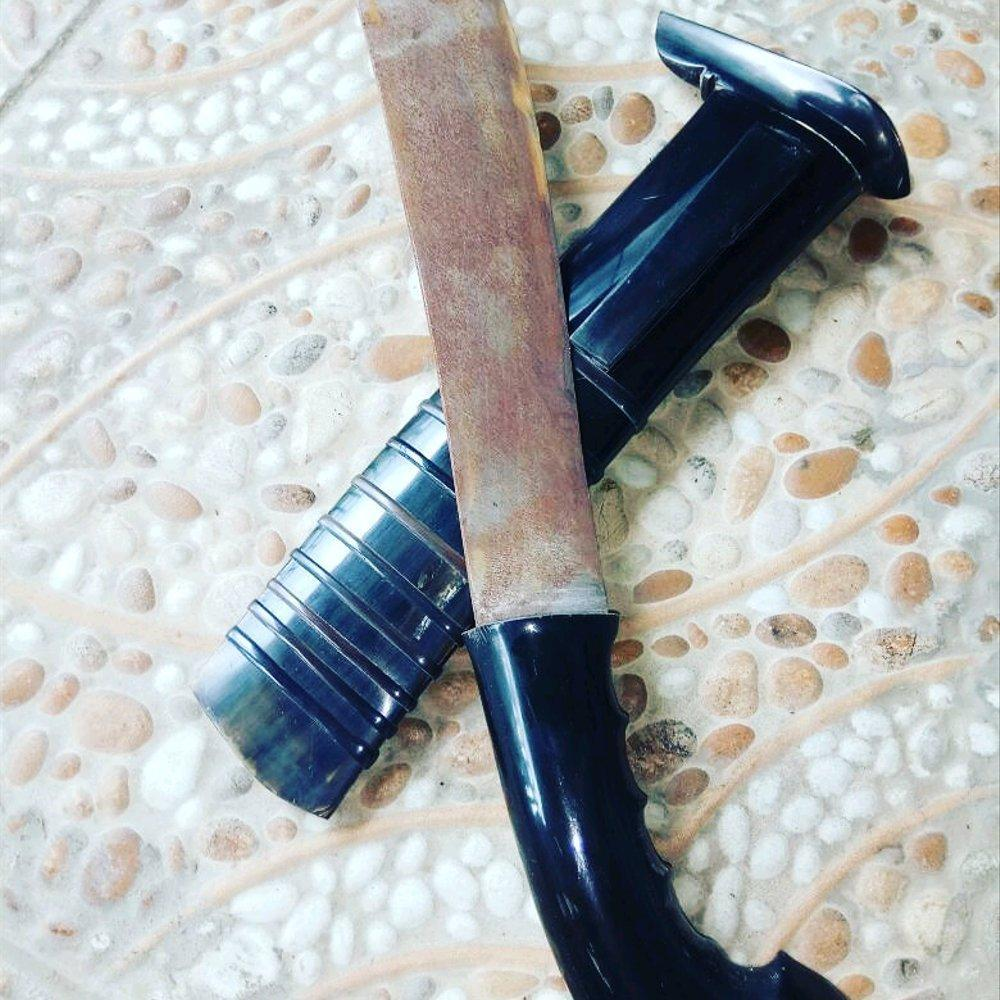facao: (308, 0, 870, 1000)
